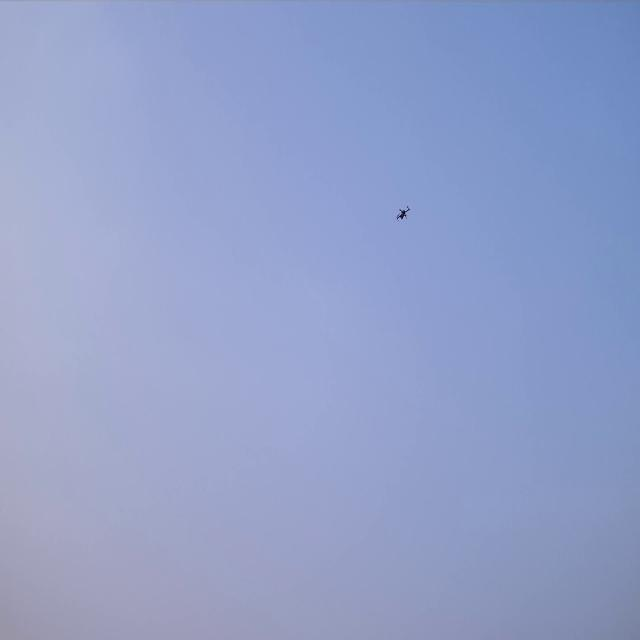UAV: (395, 205, 411, 223)
